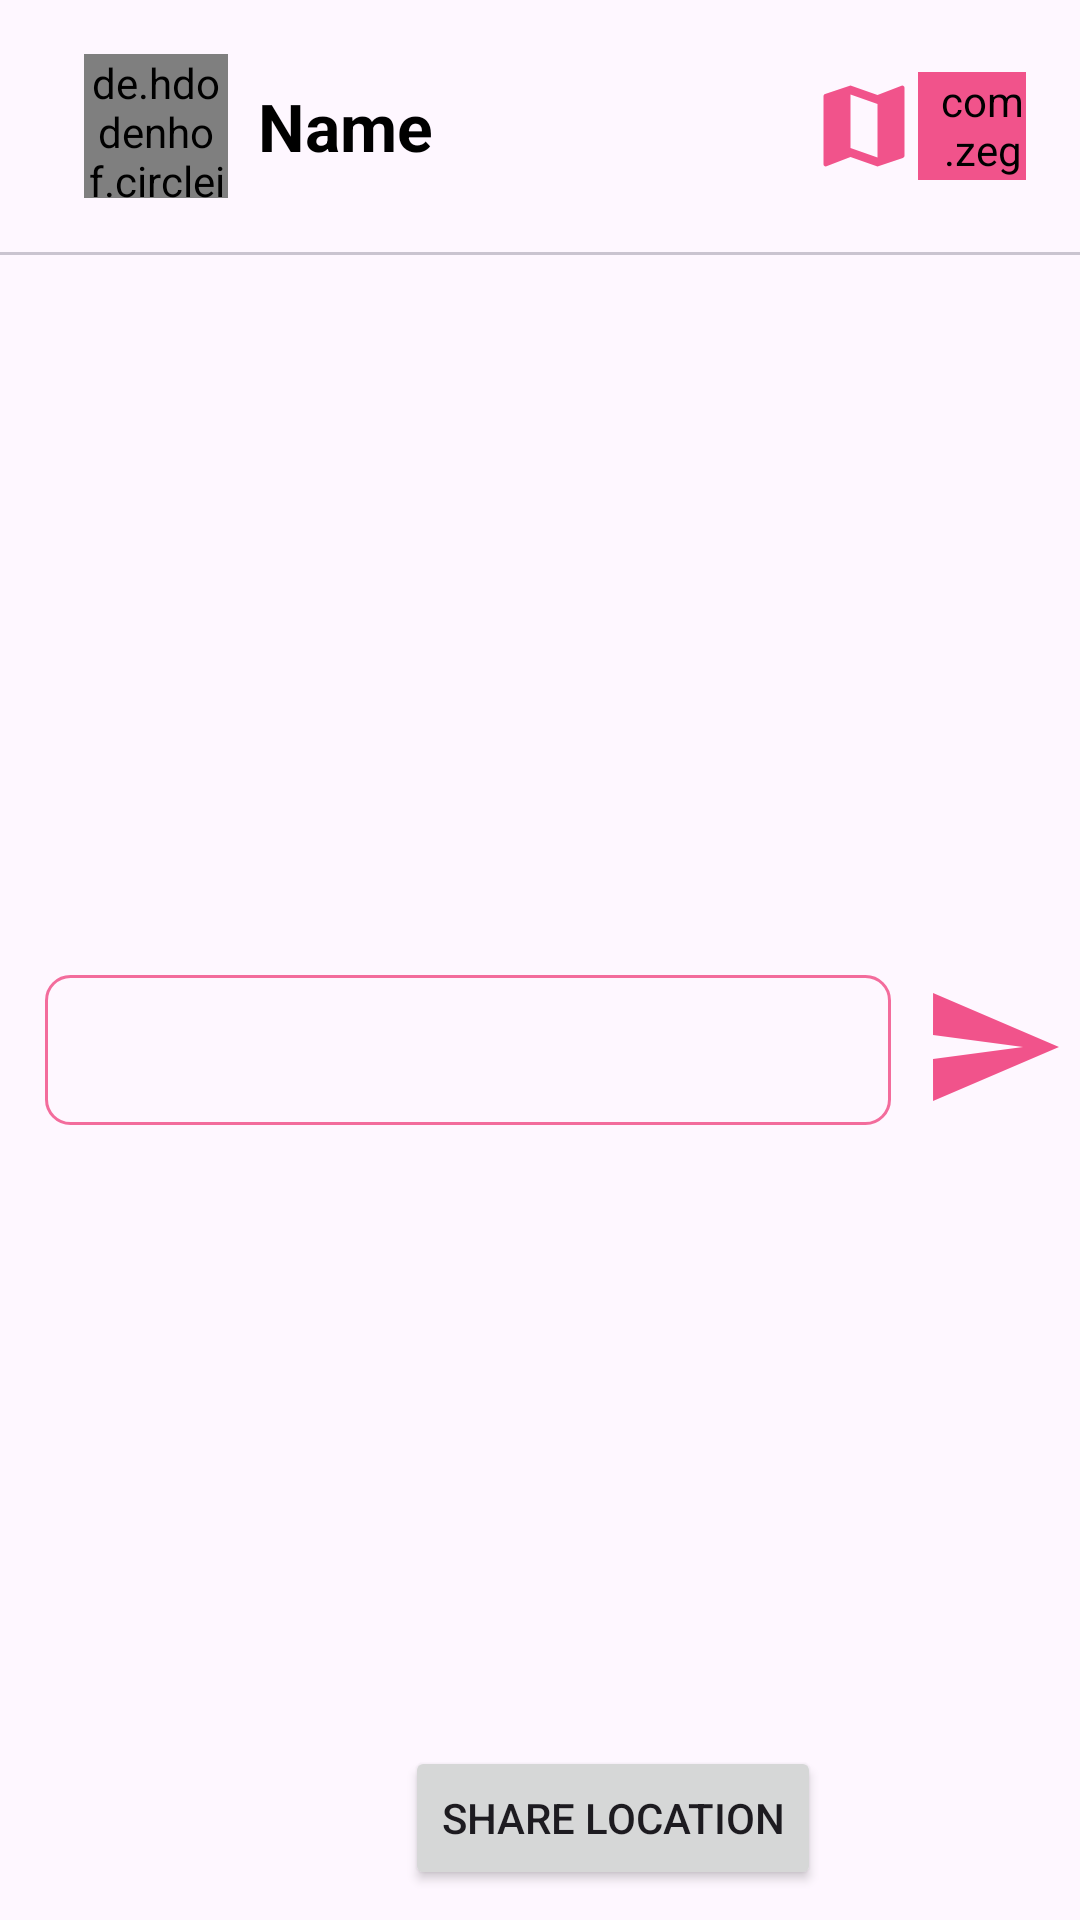

Screen size 1080px x 1920px. Icon name, then its center in pixels as [x,y]:
map: [864,126]
send: [996,1047]
